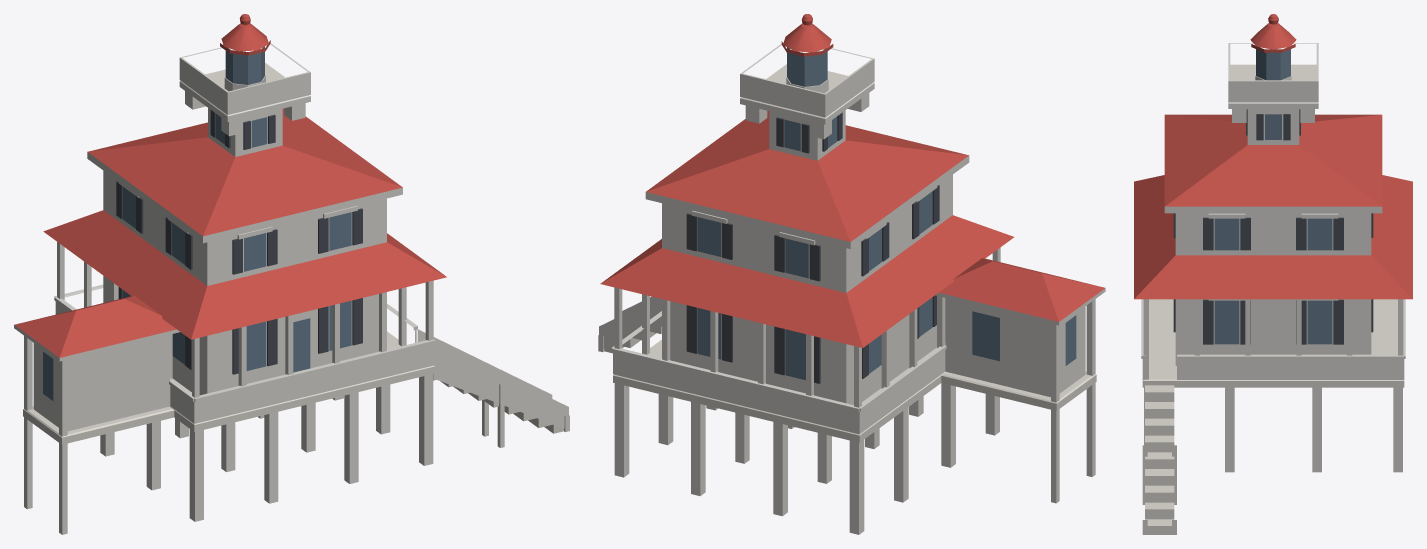
Rendered from nola-new-canal-lighthouse.glb.
3 renders of one model, left to right at view 1: azimuth 30°, elevation 25°; view 2: azimuth 150°, elevation 25°; view 3: azimuth 270°, elevation 25°, orthographic. The views are drawn at different scales.
Visible parts, largest first — view 1: New Canal Lighthouse; view 2: New Canal Lighthouse; view 3: New Canal Lighthouse.
Part boxes in pixels (x1,y1,x2,y2): New Canal Lighthouse: (14,14,569,534); New Canal Lighthouse: (598,14,1105,534); New Canal Lighthouse: (1134,14,1412,534).
Size of the model in its own units: 21.95 by 18.2 by 11.4.
